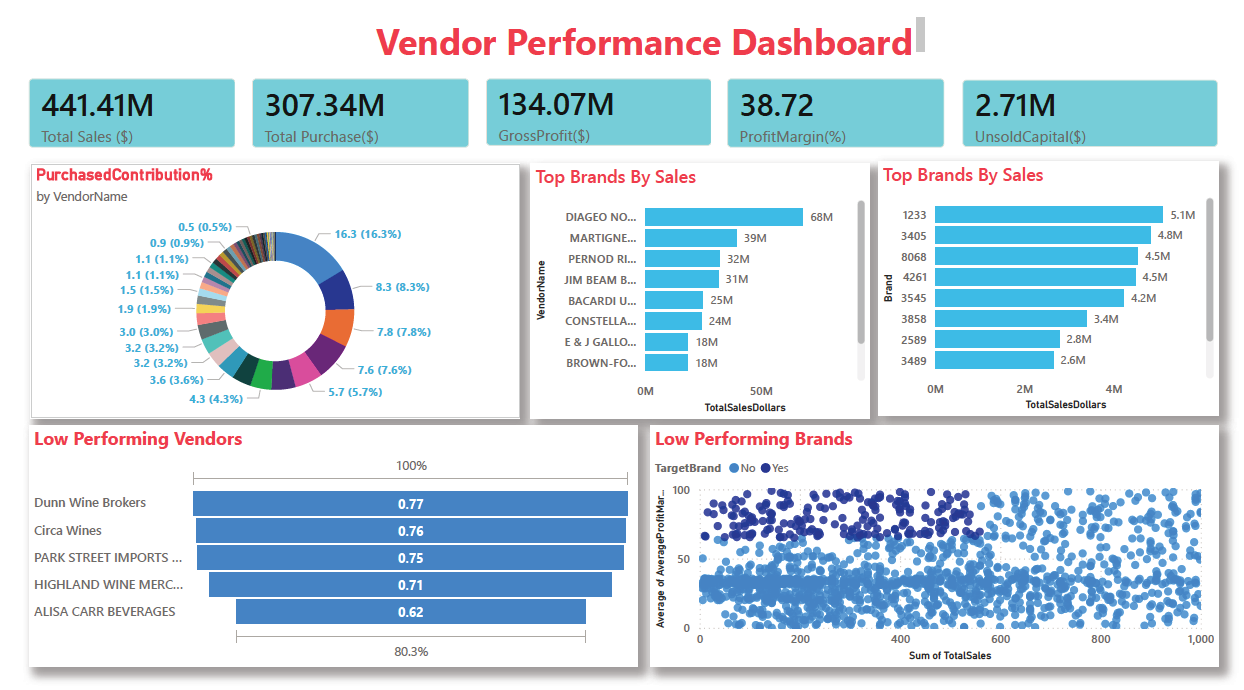

Layout of this report page (visuals, bound fields, positions):
{"tool":"powerbi","page":{"name":"Page 1","canvas":[1280,720],"ordinal":0},"visuals":[{"type":"cardVisual","fields":{"Data":["Sum(vendor_sales_summary.TotalSalesDollars)"]},"box":[0,88.3,250.9,106.2],"z":0},{"type":"cardVisual","fields":{"Data":["Sum(vendor_sales_summary.TotalPurchasedDollars)"]},"box":[233.9,88.3,261.5,106.2],"z":1000},{"type":"cardVisual","fields":{"Data":["Sum(vendor_sales_summary.GrossProfit)"]},"box":[478.4,88.3,270,104.7],"z":2000},{"type":"cardVisual","fields":{"Data":["Avg(vendor_sales_summary.ProfitMargin)"]},"box":[731.4,88.3,261.5,106.2],"z":3000},{"type":"cardVisual","fields":{"Data":["Sum(vendor_sales_summary.UnsoldCapital)"]},"box":[978.1,89.9,301.9,104.7],"z":4000},{"type":"donutChart","fields":{"Category":["PurchasedContribution.VendorName"],"Y":["Sum(PurchasedContribution.PurchasedContribution%)"]},"box":[19.1,194.6,512.4,265.6],"z":5000},{"type":"barChart","title":"Top Brands By Sales","fields":{"Category":["vendor_sales_summary.VendorName"],"Y":["Sum(vendor_sales_summary.TotalSalesDollars)"]},"box":[542.2,195,354.8,265.6],"z":6000},{"type":"barChart","title":"Top Brands By Sales","fields":{"Y":["Sum(vendor_sales_summary.TotalSalesDollars)"],"Category":["vendor_sales_summary.Brand"]},"box":[906.3,193,356.1,265.6],"z":7000},{"type":"funnel","title":"Low Performing Vendors","fields":{"Category":["LowTurnoverVendor.VendorName"],"Y":["Avg(LowTurnoverVendor.AverageStockTurnover)"]},"box":[17.7,468.5,636.7,251.5],"z":8000},{"type":"scatterChart","title":"Low Performing Brands","fields":{"Category":["BrandPerformance.Description"],"X":["Sum(BrandPerformance.TotalSales)"],"Series":["BrandPerformance.TargetBrand"],"Y":["Avg(BrandPerformance.AverageProfitMargin)"]},"box":[667,468.5,595.3,251.5],"z":8001},{"type":"textbox","box":[371.7,36.7,588.3,51.7],"z":8003}]}

Visuals, with their boxes in screenshot pixels (x1, y1, x2, y2), scaled from the page's 1280x720 canvas onto the 1244x690 screenshot:
cardVisual - Sum(vendor_sales_summary.TotalSalesDollars): 0 85 244 186
cardVisual - Sum(vendor_sales_summary.TotalPurchasedDollars): 227 85 481 186
cardVisual - Sum(vendor_sales_summary.GrossProfit): 465 85 727 185
cardVisual - Avg(vendor_sales_summary.ProfitMargin): 711 85 965 186
cardVisual - Sum(vendor_sales_summary.UnsoldCapital): 951 86 1243 186
donutChart - PurchasedContribution.VendorName x Sum(PurchasedContribution.PurchasedContribution%): 19 186 517 441
"Top Brands By Sales" barChart: 527 187 872 441
"Top Brands By Sales" barChart: 881 185 1227 439
"Low Performing Vendors" funnel: 17 449 636 689
"Low Performing Brands" scatterChart: 648 449 1227 689
textbox: 361 35 933 85
